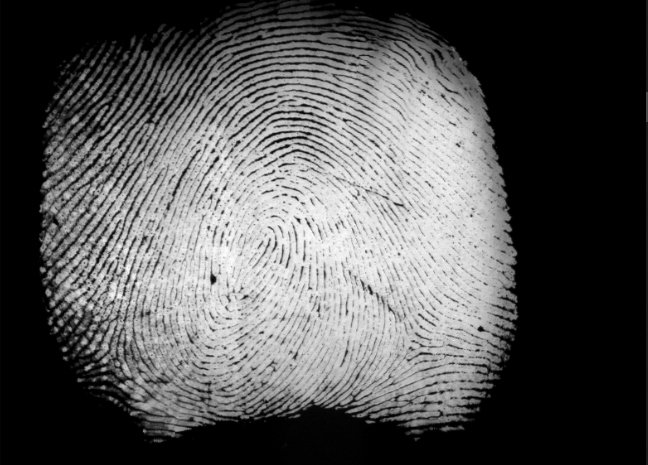nucelo: (255, 226, 275, 252)
verticilo: (96, 343, 128, 372), (399, 338, 427, 357)
